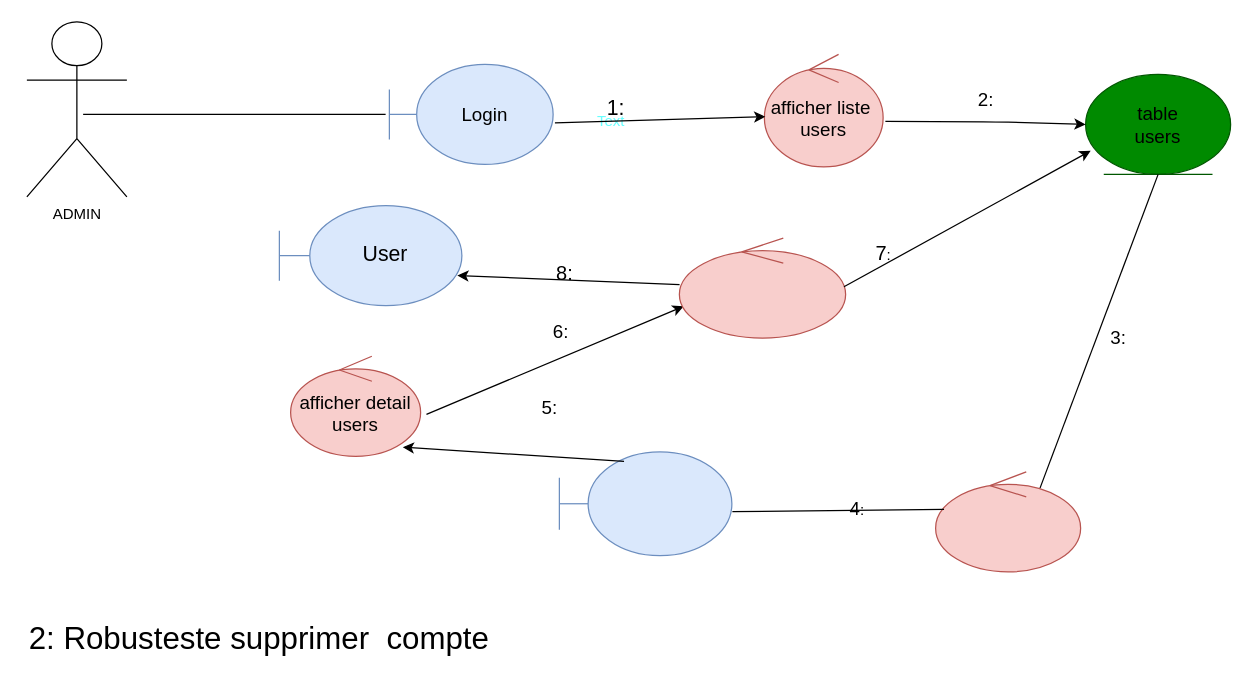
Image size: 1253x678. Some labels were removed from this diagram. Here are the shapes that lost their labels. From the top down, the box of each, then its label:
(678, 237, 846, 338): controlleur supprimer user
(558, 451, 732, 556): Profil user
(934, 471, 1081, 572): Afficher profil user
